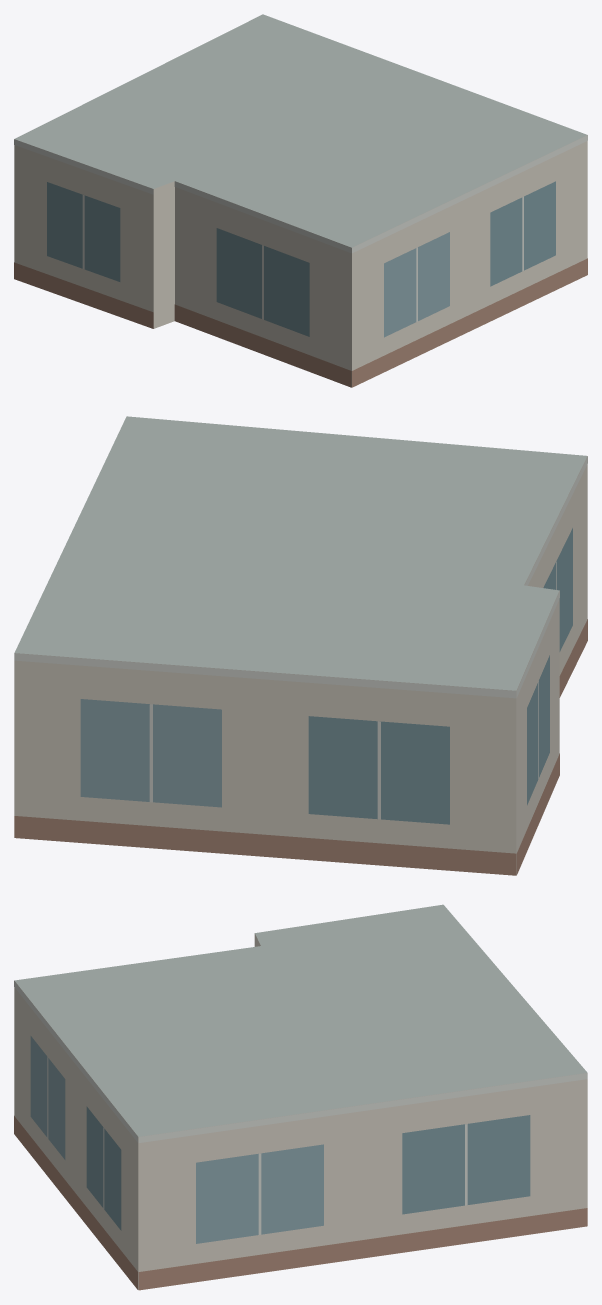
Rendered from survey-upis-32605956.glb.
3 renders of one model, top to bottom at view 1: azimuth 30°, elevation 25°; view 2: azimuth 150°, elevation 25°; view 3: azimuth 270°, elevation 25°, orthographic. The views are drawn at different scales.
Visible parts, largest first — view 1: survey-upis-32605956.tmp; view 2: survey-upis-32605956.tmp; view 3: survey-upis-32605956.tmp.
Boxes of the visible parts, <box> form: survey-upis-32605956.tmp: <box>14,14,587,387</box>; survey-upis-32605956.tmp: <box>14,416,587,875</box>; survey-upis-32605956.tmp: <box>14,904,587,1290</box>.
Bounding box in the file's own units: 9.92 × 3.05 × 10.34.
